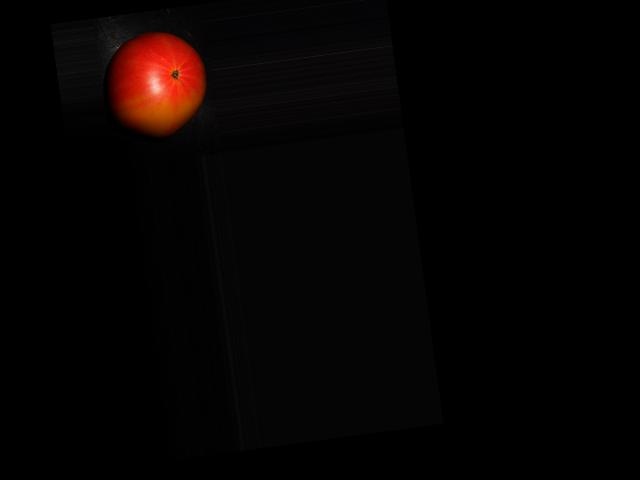tomato: (99, 26, 213, 143)
